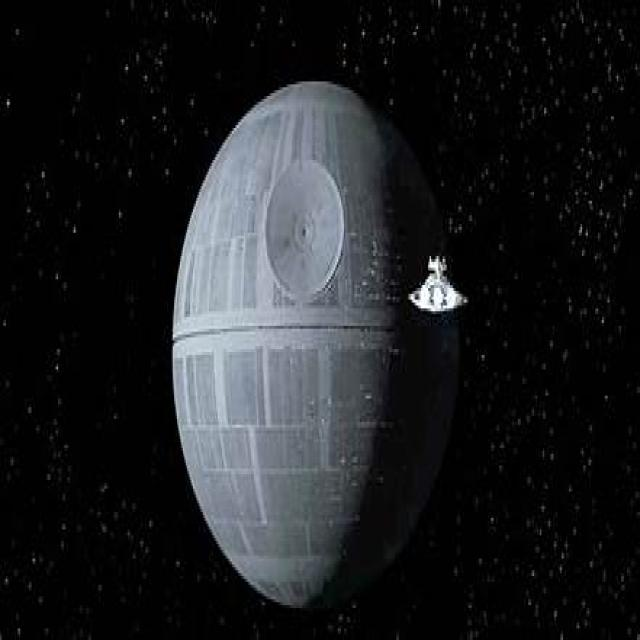deathStar: (170, 77, 461, 620)
